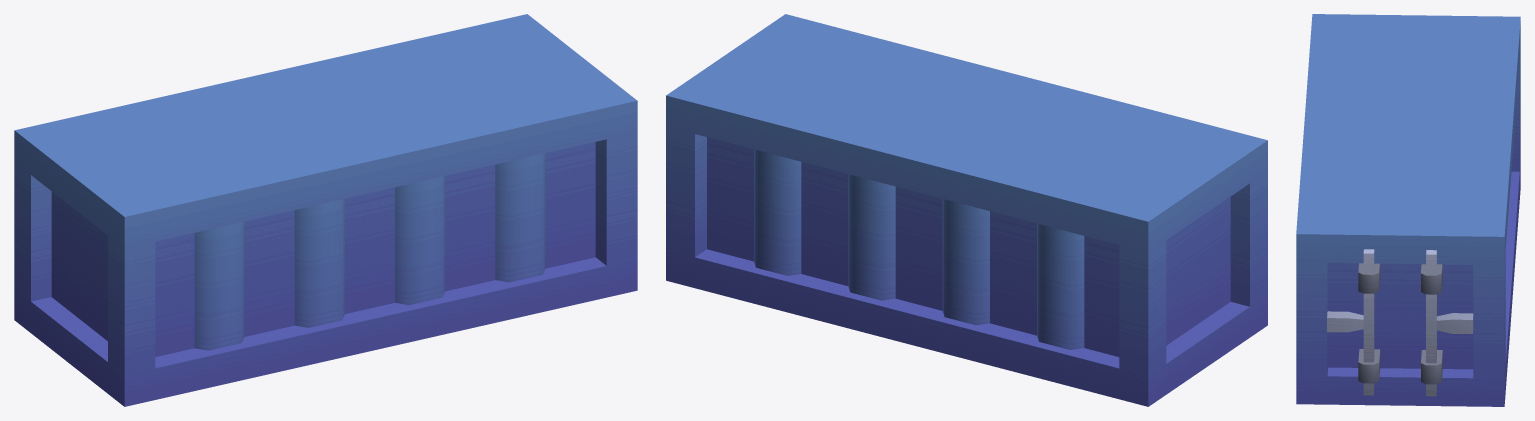
Rendered from cargo.001_lev2.glb.
3 renders of one model, left to right at view 1: azimuth 30°, elevation 25°; view 2: azimuth 150°, elevation 25°; view 3: azimuth 270°, elevation 25°, orthographic. The views are drawn at different scales.
Parts seen in each view (by area): view 1: cargo.001_lev2; view 2: cargo.001_lev2; view 3: cargo.001_lev2.
Part boxes in pixels (<box>): cargo.001_lev2: <box>14,14,637,406</box>; cargo.001_lev2: <box>666,14,1267,406</box>; cargo.001_lev2: <box>1296,14,1520,406</box>.
Bounding box in the file's own units: 2.59 × 0.9 × 1.08.
1 material, 1 textured.
